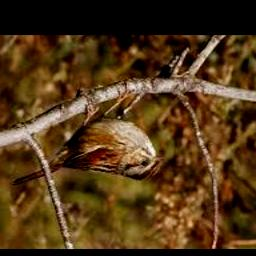Sparrow: (13, 82, 165, 185)
